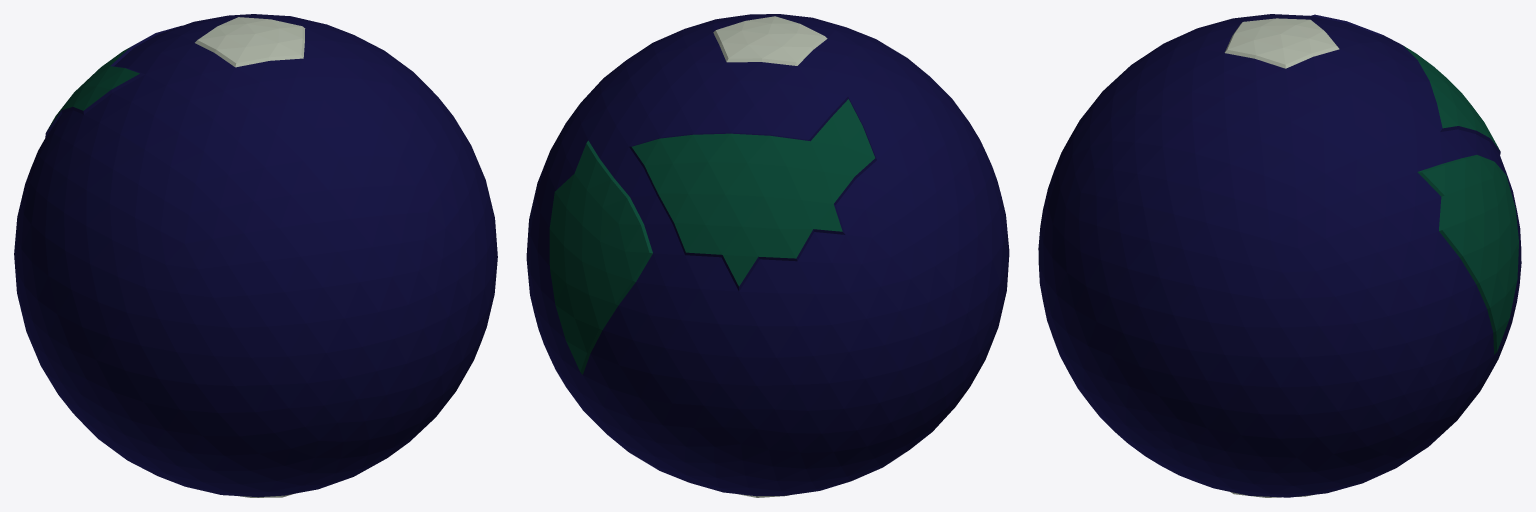
The model's file is earth3.obj.
The picture shows the model from 3 angles, left to right: view 1: azimuth 30°, elevation 25°; view 2: azimuth 150°, elevation 25°; view 3: azimuth 270°, elevation 25°; orthographic projection.
Visible parts, largest first — view 1: Icosphere; view 2: Icosphere; view 3: Icosphere.
Boxes of the visible parts, x1=… form: Icosphere: x1=14, y1=14, x2=497, y2=497; Icosphere: x1=526, y1=14, x2=1009, y2=497; Icosphere: x1=1038, y1=14, x2=1521, y2=497.
Bounding box in the file's own units: 9.97 × 10.1 × 9.98.
